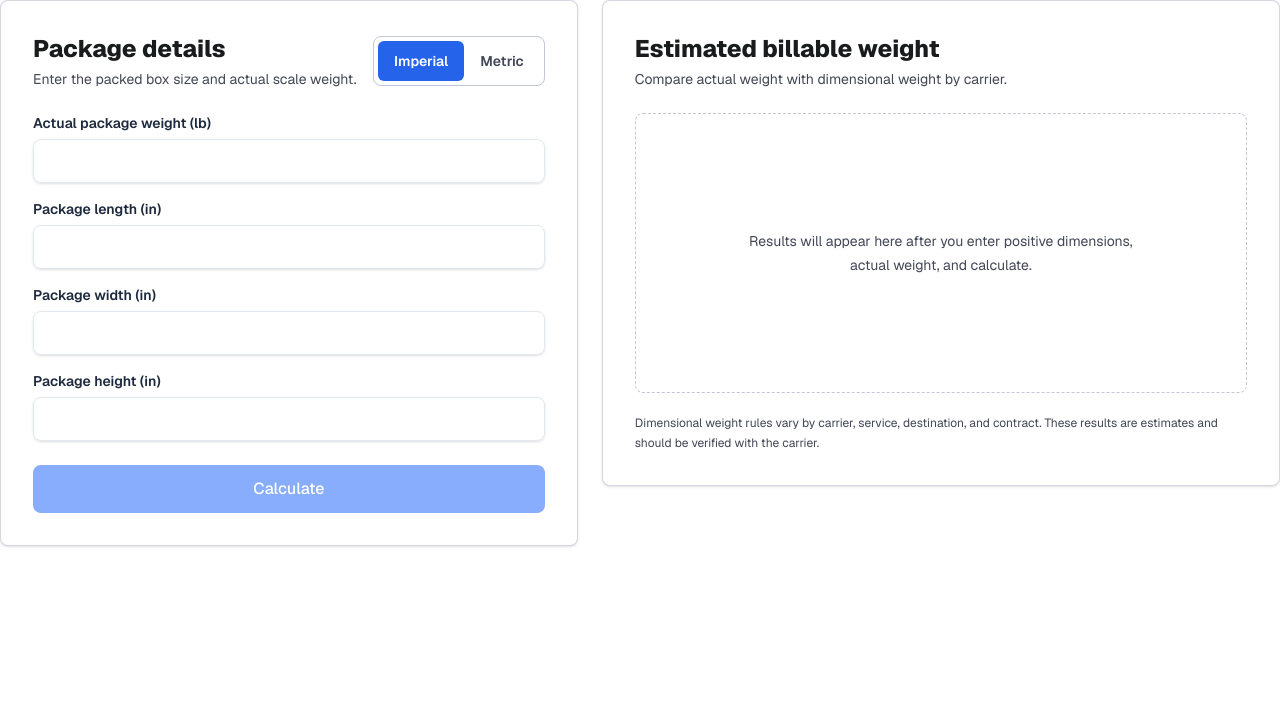
Scenario: DimensionalWeightCalculator › shows inline validation and prevents calculation for non-positive values
Type "0" into the number field labelled "Actual package weight (lb)" at (289,161), box [33,139,545,183]
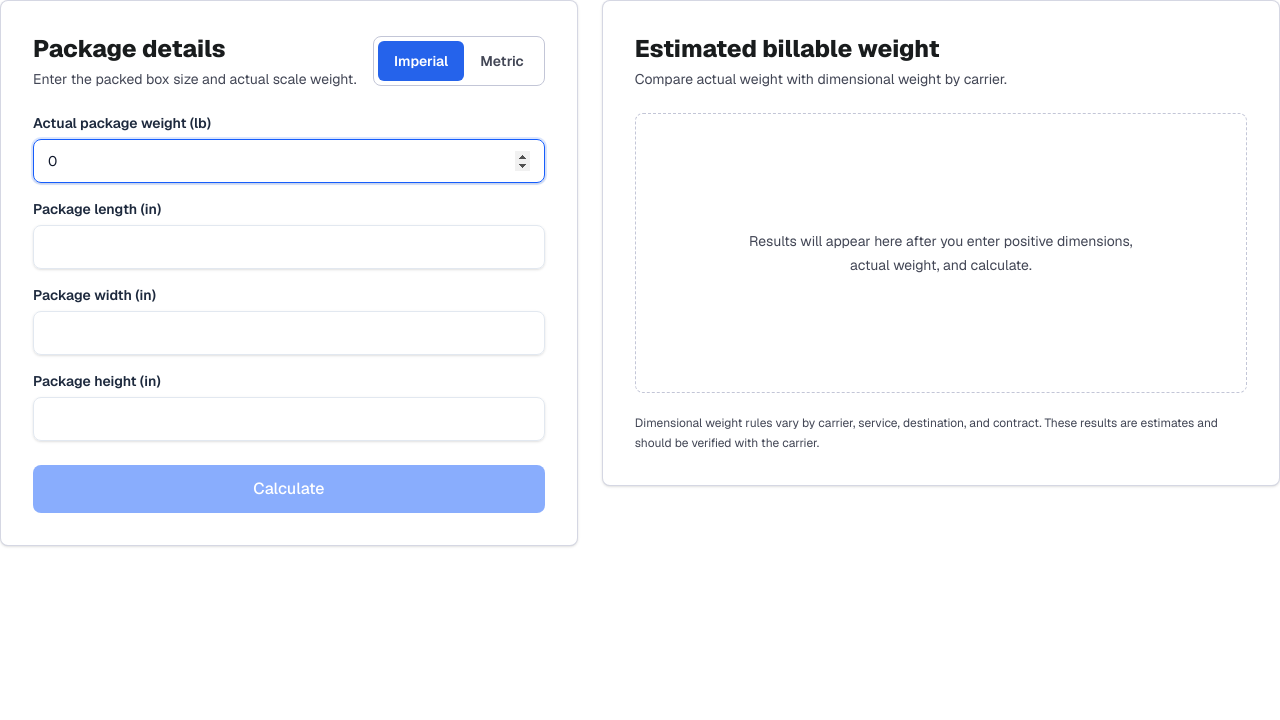
Press Tab
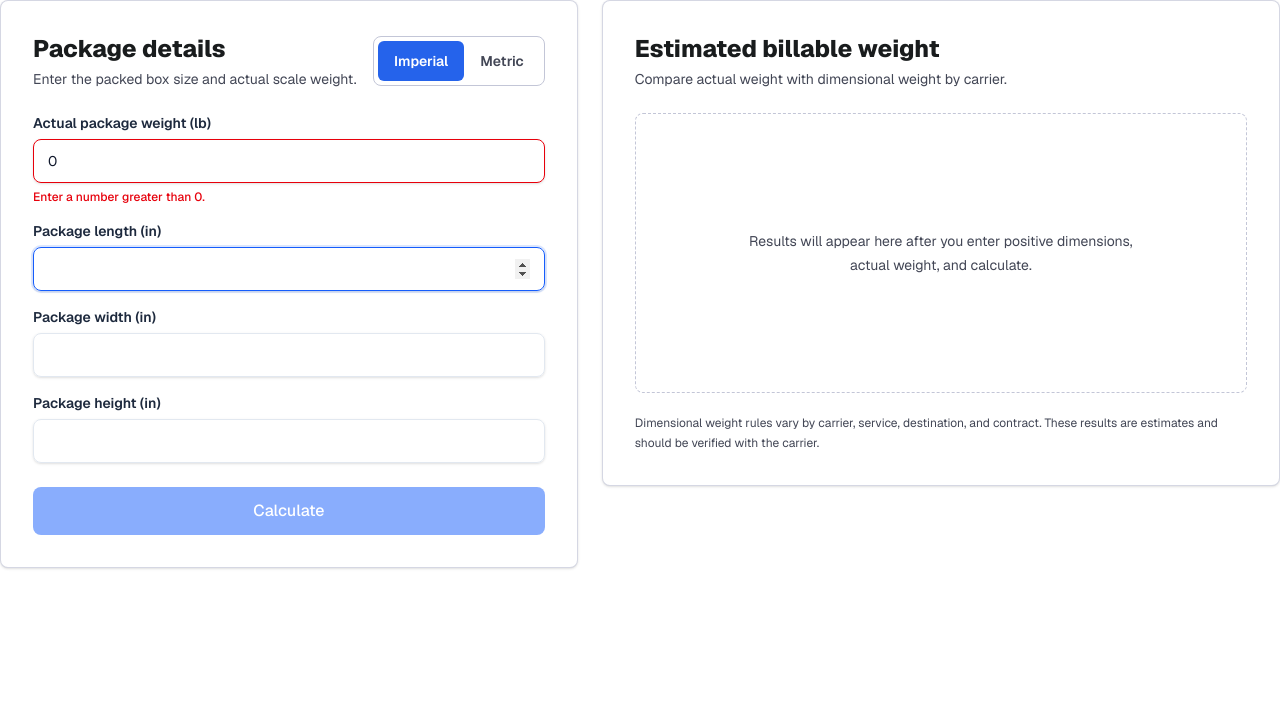
Check: the button "Calculate" is disabled, box [33,487,545,535]
Check: the text "Enter a number greater than 0." is shown, box [33,189,205,205]
